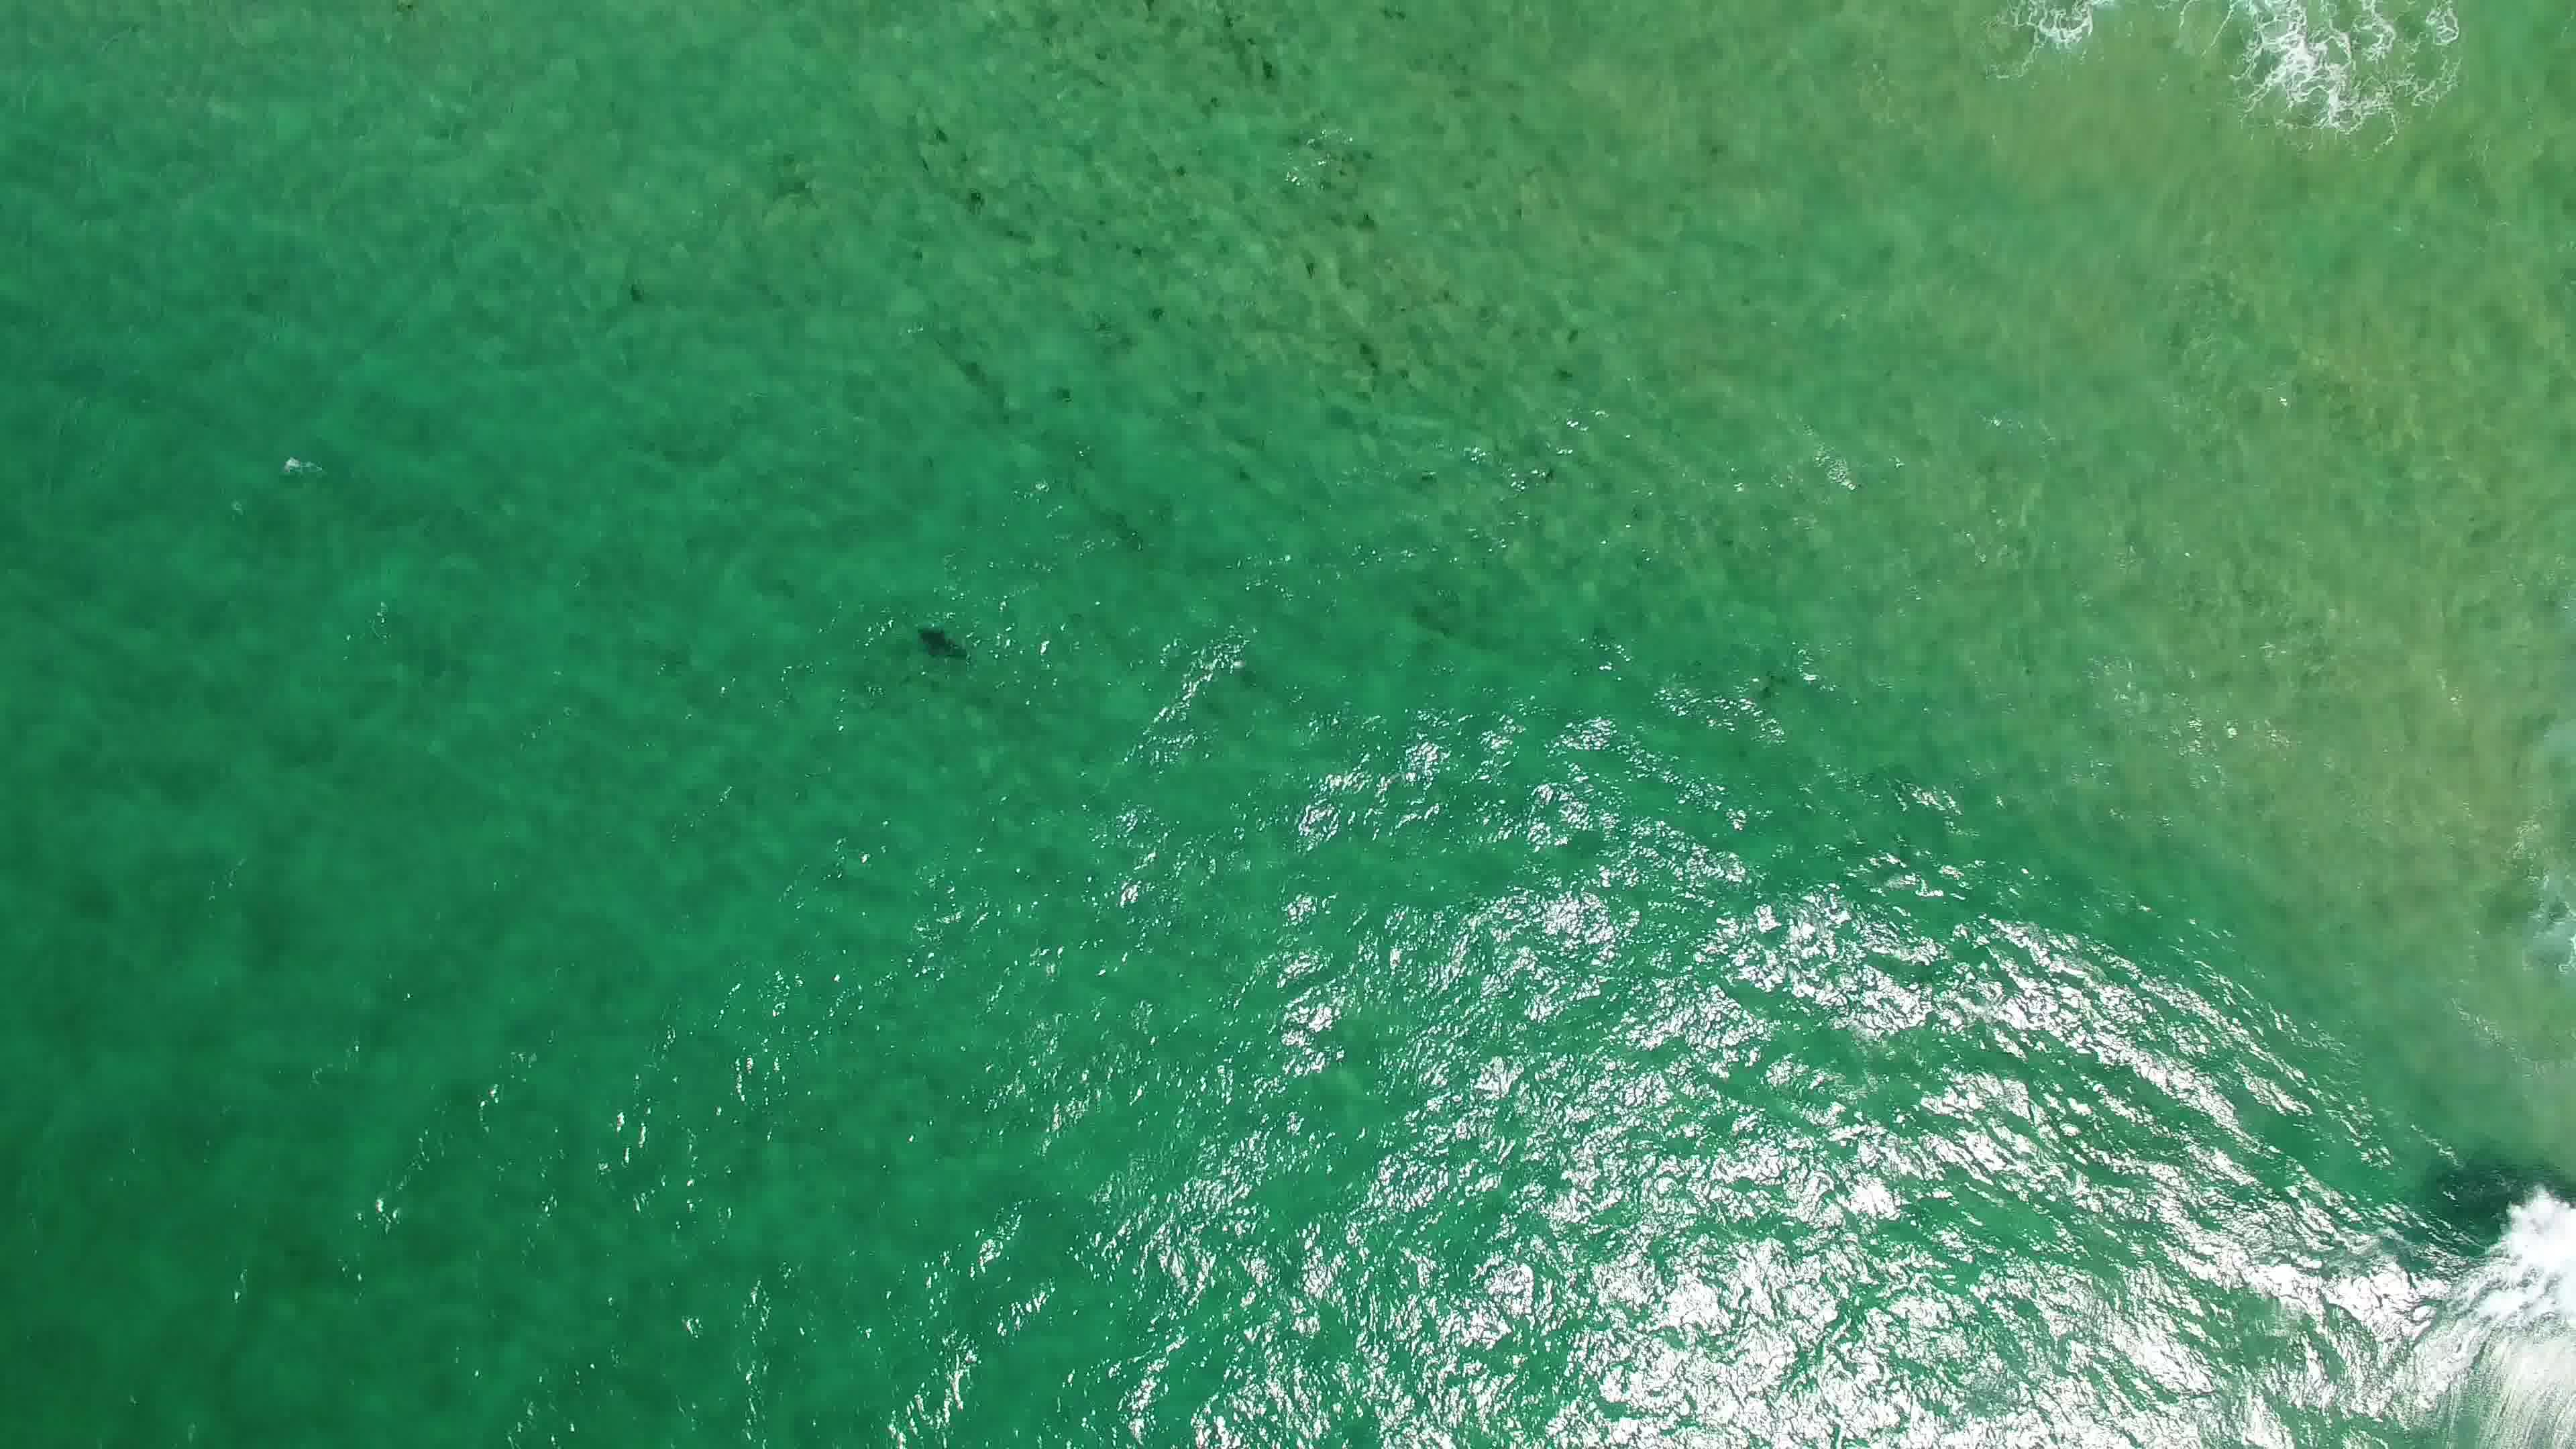shark: (908, 623, 977, 669)
